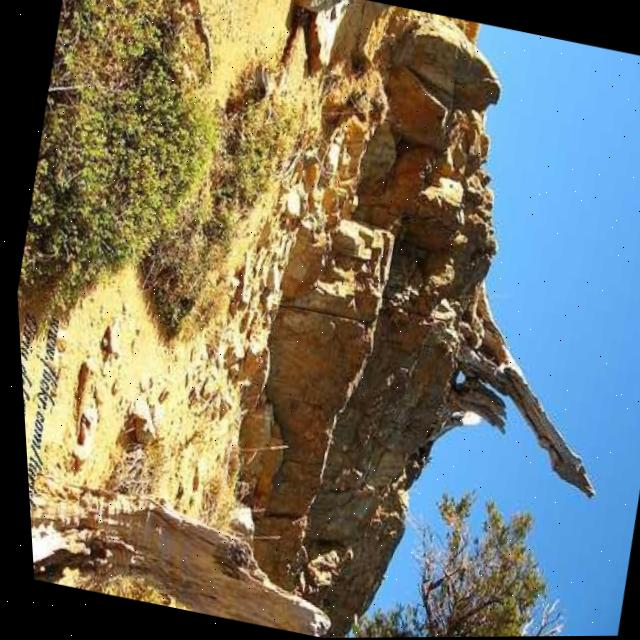missile: (464, 345, 616, 505)
